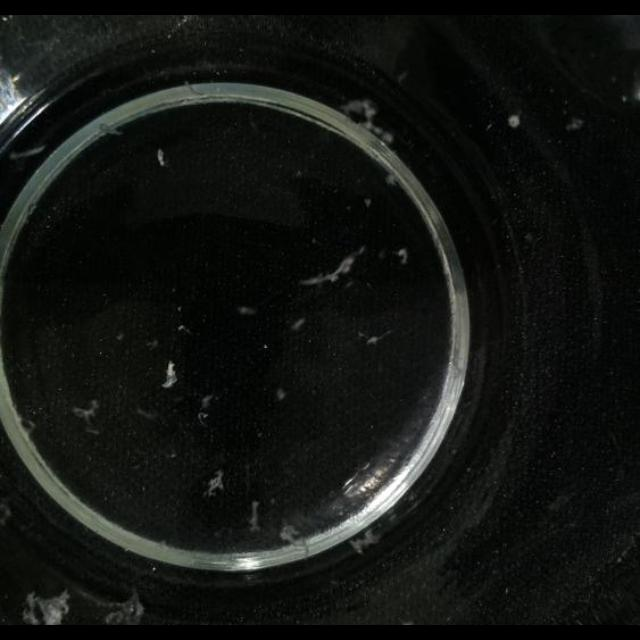Fibre: (243, 500, 324, 554), (341, 98, 394, 146), (298, 249, 364, 287), (20, 589, 72, 625), (101, 590, 143, 624), (346, 527, 382, 557), (72, 399, 102, 429), (203, 469, 224, 496), (359, 328, 391, 344), (160, 360, 178, 388), (246, 501, 262, 531), (18, 416, 38, 436), (199, 395, 215, 413), (384, 172, 400, 188), (237, 304, 256, 316), (292, 317, 306, 331), (396, 248, 408, 264), (157, 148, 167, 166), (177, 324, 191, 334), (276, 388, 286, 402)
microbeads: (564, 118, 584, 132), (508, 114, 520, 128)
